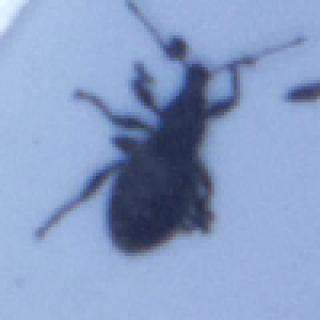bvw: (36, 2, 302, 258)
